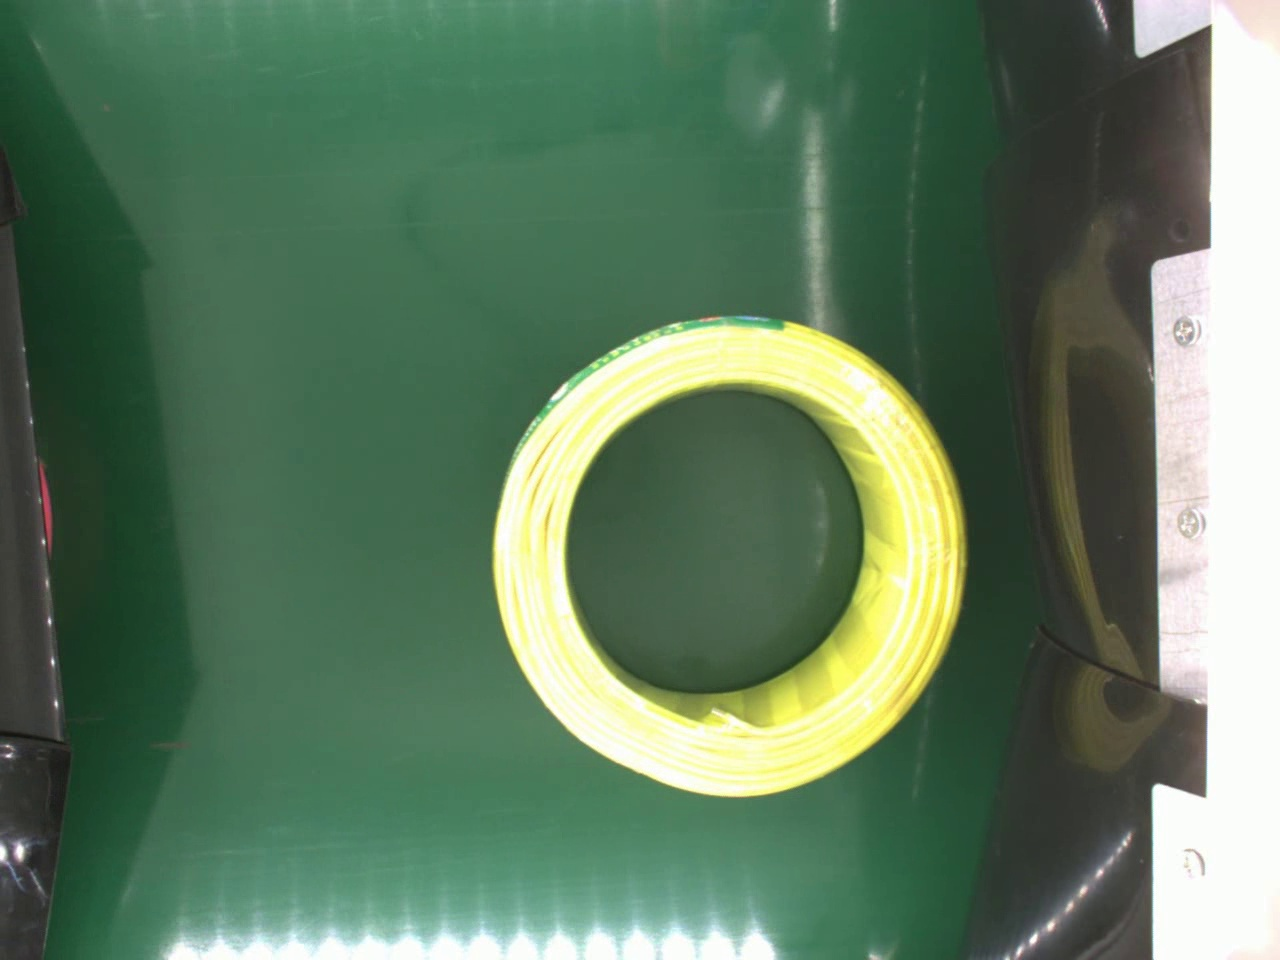yellow: (489, 307, 965, 802)
